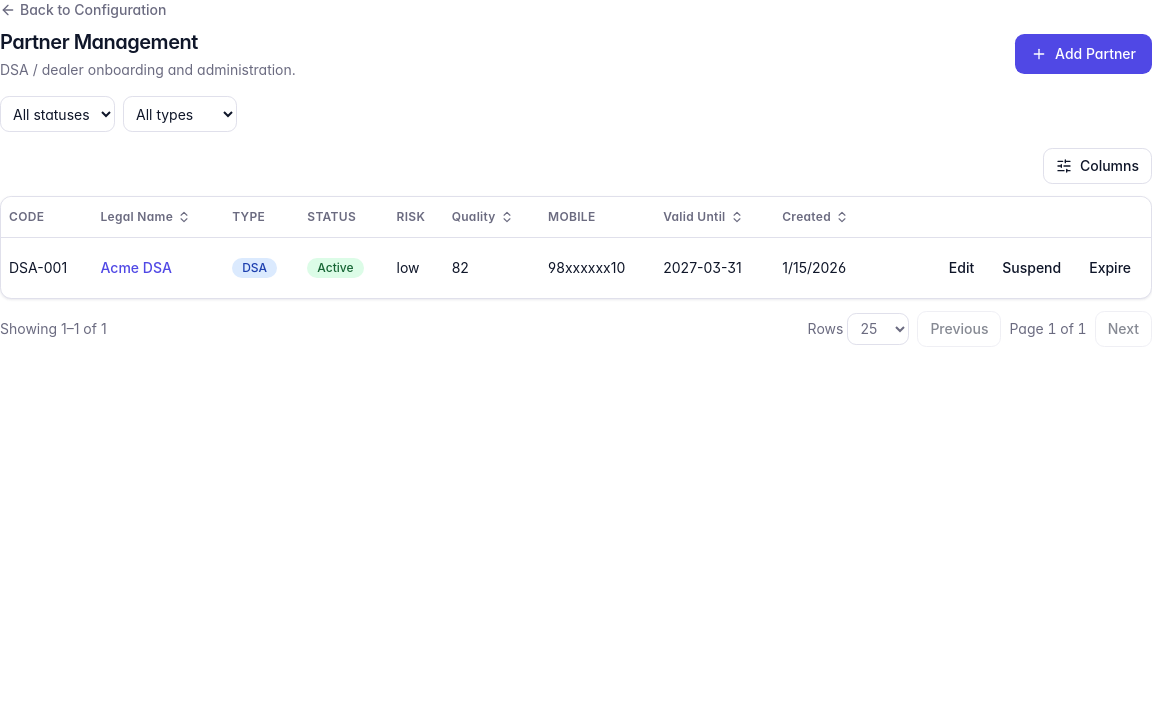
Test: PartnerManagementPage › blocks create submission and shows inline validation when required fields are empty
Click the button "Add Partner" at (1084, 54), box [1015,34,1151,74]
(page scrolled)
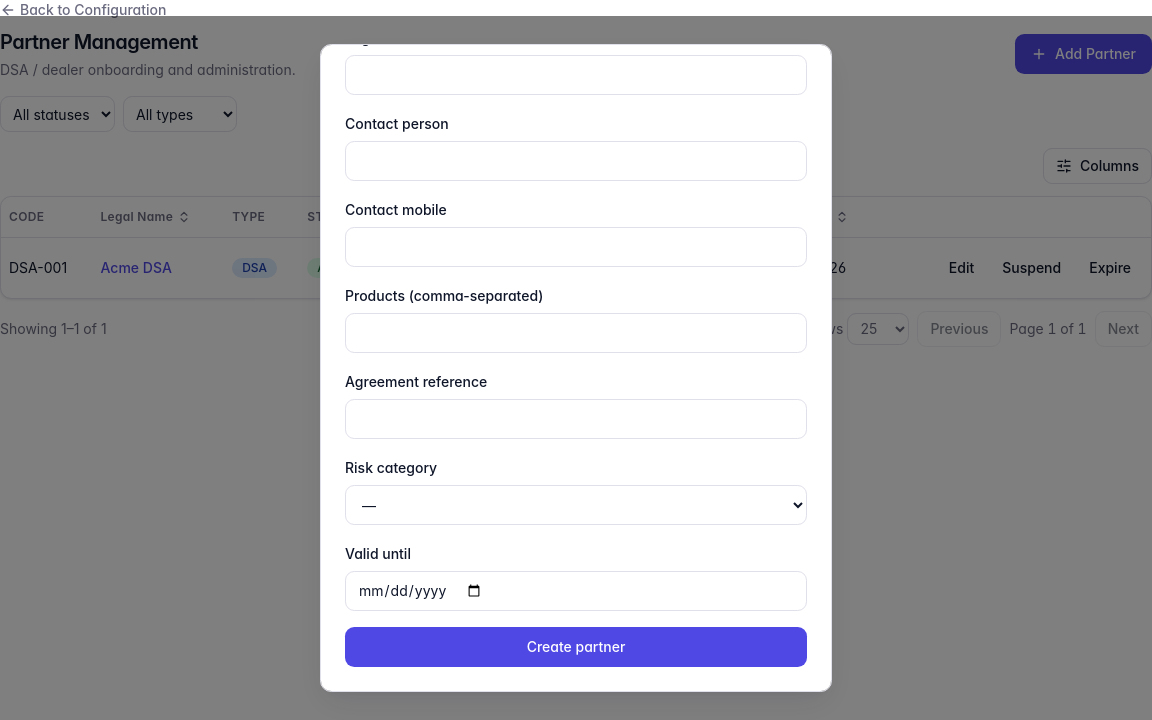
Click the button "Create partner" at (576, 647), box [345,627,807,667]
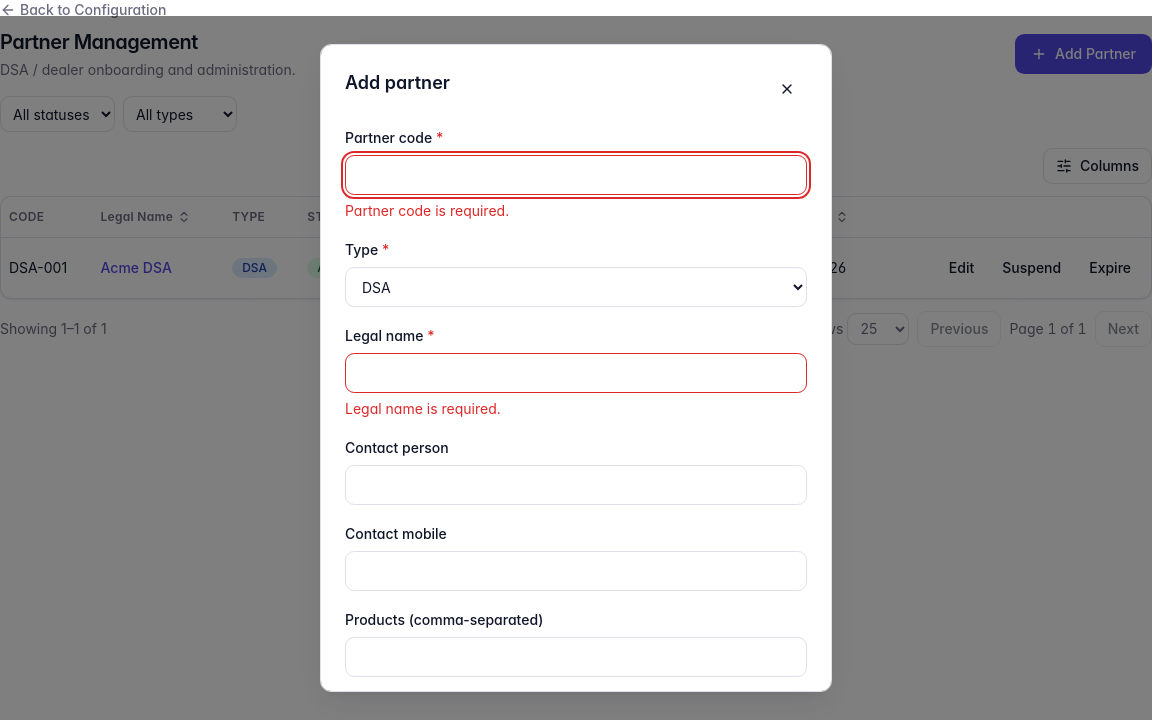
Expected: the text "Partner code is required." is shown, [345,202,509,219]
Expected: the text "Legal name is required." is shown, [345,400,501,417]
